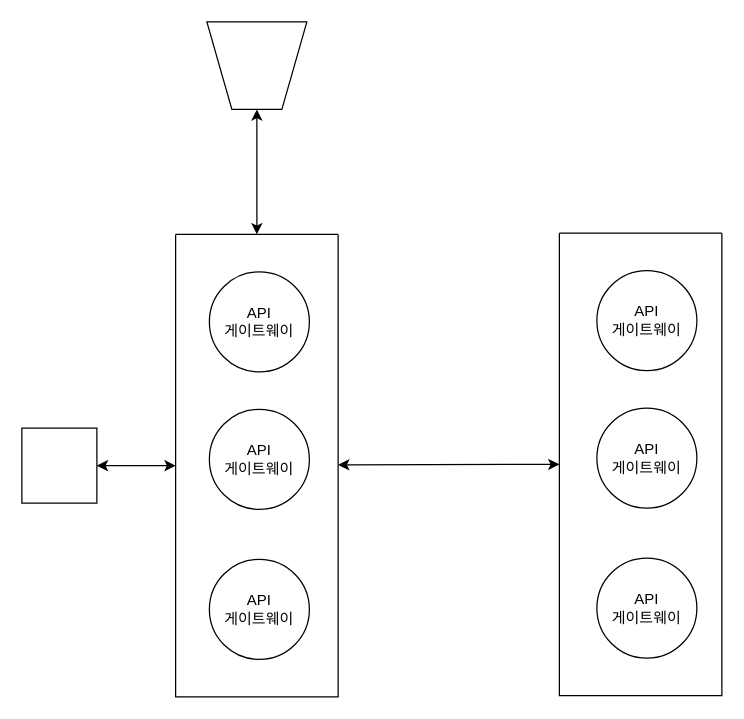
Image size: 744x719. Some labels were removed from this diagram. Each missing label, with the centre of its shape:
LB: point (59, 465)
토큰버킷 저장소: point (256, 65)
